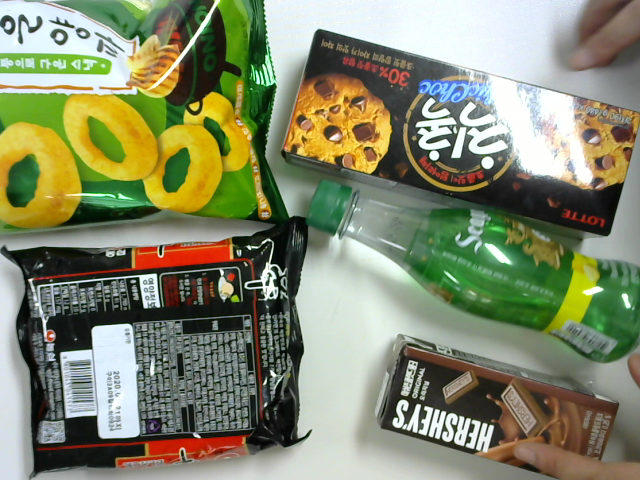Chicchok_Original_2400: (281, 30, 635, 240)
Grilled_Onions: (1, 4, 283, 230)
Hush_Choco_Drink: (377, 338, 611, 480)
Seagram_Lemon_Carbonated_Water: (295, 176, 640, 375)
Sinramen_Black: (7, 224, 311, 480)
